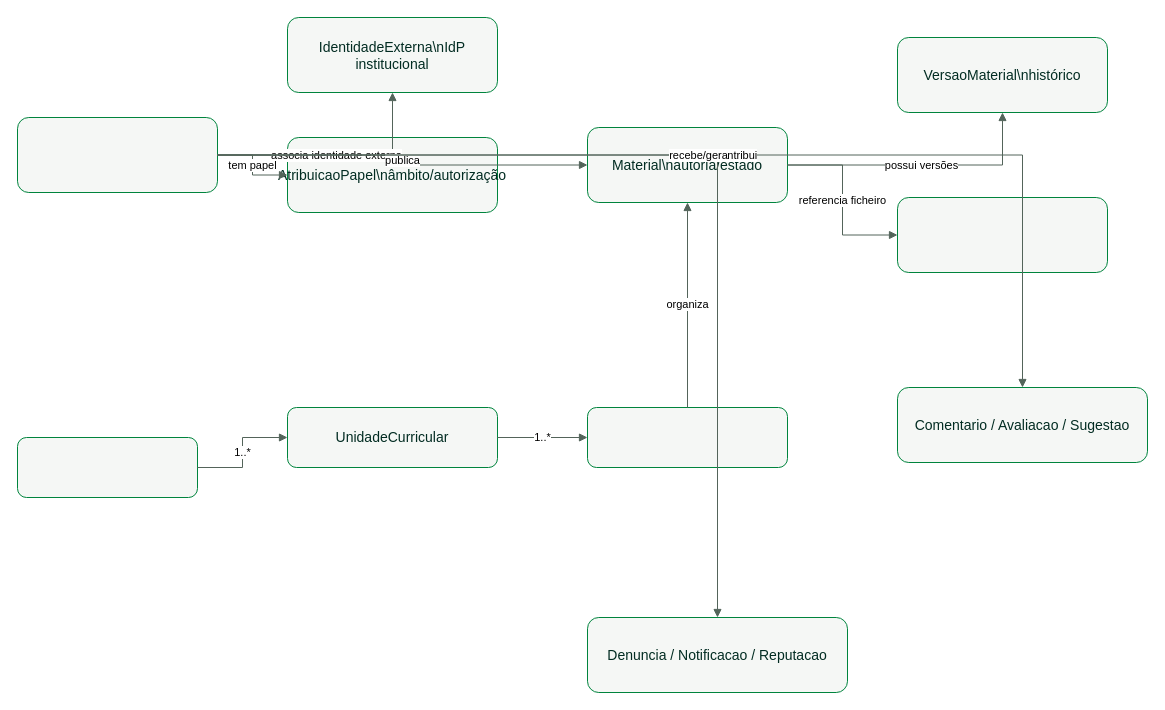
Some shapes in this 1165 by 710 pixel diagram are drawn without their labels. The centre of each missing label's shape, as x and y in pixels:
Curso: the point at 107,467
Ficheiro\narmazenamento separado: the point at 1002,234
Topico: the point at 687,437
Utilizador\nID interno permanente: the point at 117,154
